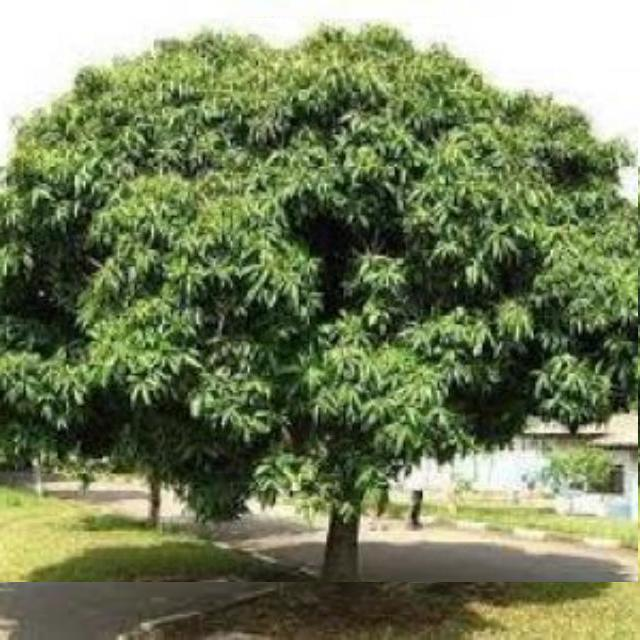tree: (0, 18, 638, 582)
